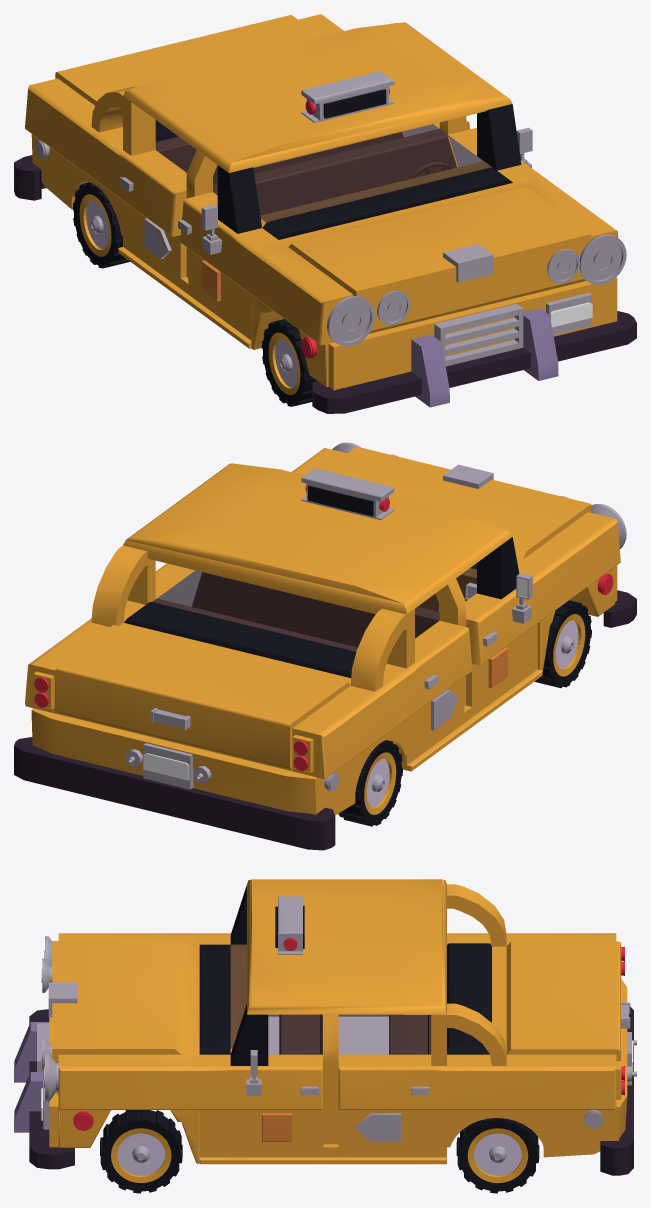
The model's file is low_poly_taxi_cab_checker_marathon.glb.
The picture shows the model from 3 angles, top to bottom: view 1: azimuth 30°, elevation 25°; view 2: azimuth 150°, elevation 25°; view 3: azimuth 270°, elevation 25°; orthographic projection. The views are drawn at different scales.
Visible parts, largest first — view 1: Taxi_6, FRWheel_3, BRWheel_1; view 2: Taxi_6, FRWheel_3, BRWheel_1; view 3: Taxi_6, FLWheel_2, BLWheel_0.
Part boxes in pixels (x1=…): Taxi_6: x1=14, y1=14, x2=636, y2=413; FRWheel_3: x1=261, y1=319, x2=317, y2=406; BRWheel_1: x1=72, y1=182, x2=129, y2=268; Taxi_6: x1=14, y1=442, x2=636, y2=850; FRWheel_3: x1=534, y1=600, x2=591, y2=688; BRWheel_1: x1=338, y1=740, x2=402, y2=826; Taxi_6: x1=14, y1=879, x2=636, y2=1175; FLWheel_2: x1=100, y1=1110, x2=182, y2=1193; BLWheel_0: x1=456, y1=1118, x2=539, y2=1193.
Size of the model in its own units: 1.25 by 0.8272 by 2.19.
2 materials, 2 textured.
